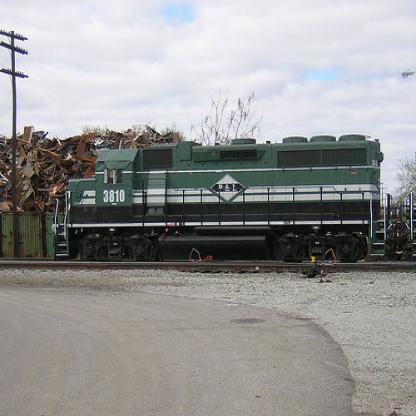train: (49, 131, 386, 266)
